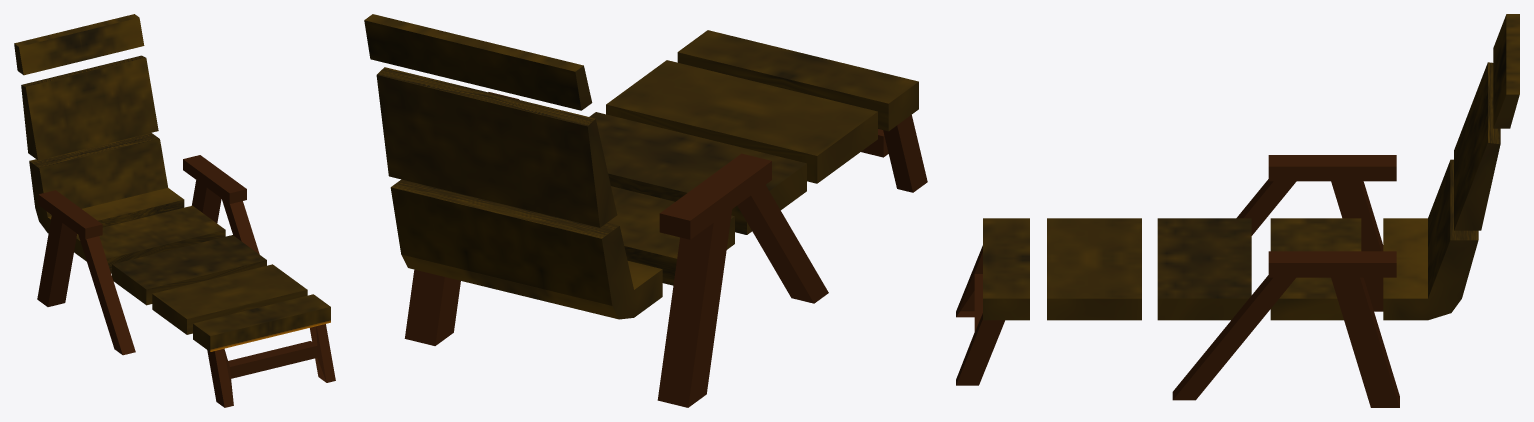
The model's file is EspreguisadeiraMadeira.fbx.
3 views of the same model, side by side, from view 1: azimuth 30°, elevation 25°; view 2: azimuth 150°, elevation 25°; view 3: azimuth 270°, elevation 25° (orthographic). The views are drawn at different scales.
Parts seen in each view (by area): view 1: EspreguisadeiraMadeira; view 2: EspreguisadeiraMadeira; view 3: EspreguisadeiraMadeira.
Boxes of the visible parts, <box> form: EspreguisadeiraMadeira: <box>14,14,335,407</box>; EspreguisadeiraMadeira: <box>364,14,927,407</box>; EspreguisadeiraMadeira: <box>956,14,1519,407</box>.
Size of the model in its own units: 315 by 407 by 694.
